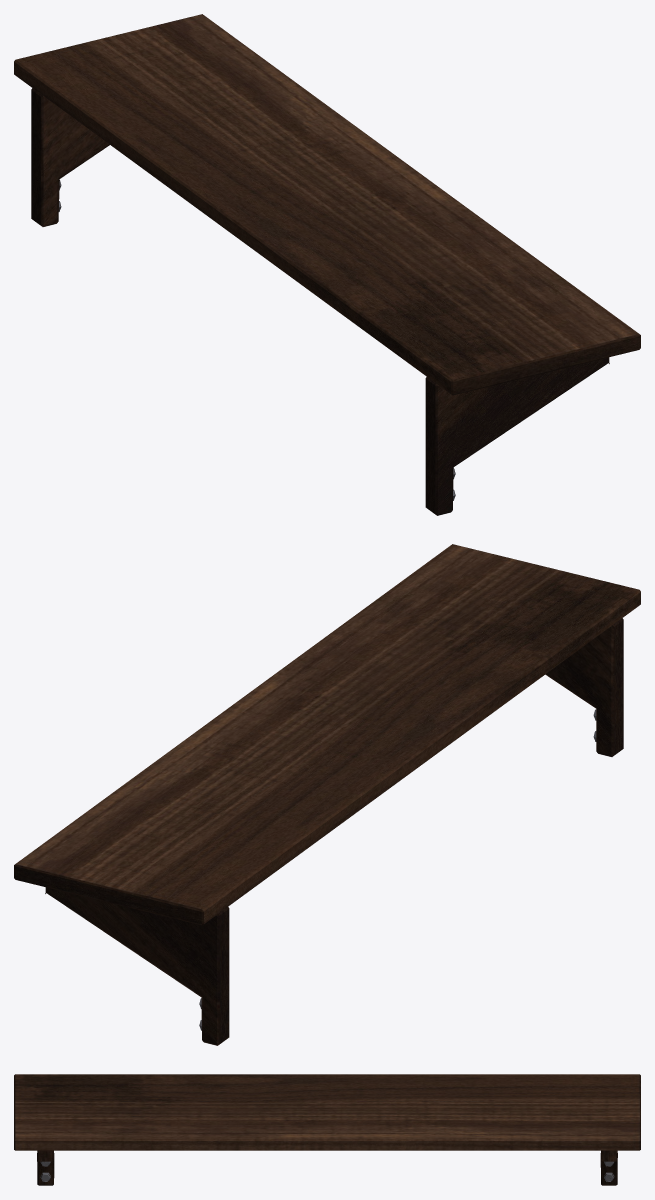
Rendered from bookshelf.obj.
3 renders of one model, top to bottom at view 1: azimuth 30°, elevation 25°; view 2: azimuth 150°, elevation 25°; view 3: azimuth 270°, elevation 25°, orthographic. The views are drawn at different scales.
Visible parts, largest first — view 1: defaultMaterial.002, defaultMaterial.001; view 2: defaultMaterial.002, defaultMaterial.001; view 3: defaultMaterial.002, defaultMaterial.001.
Boxes of the visible parts, x1,y1,x2,y2 form: defaultMaterial.002: (14, 14, 640, 395); defaultMaterial.001: (31, 88, 609, 515); defaultMaterial.002: (14, 544, 640, 925); defaultMaterial.001: (45, 618, 623, 1045); defaultMaterial.002: (14, 1074, 640, 1150); defaultMaterial.001: (37, 1150, 617, 1185).
Bounding box in the file's own units: 1.51 × 1.13 × 6.03.
1 material, 1 textured.
